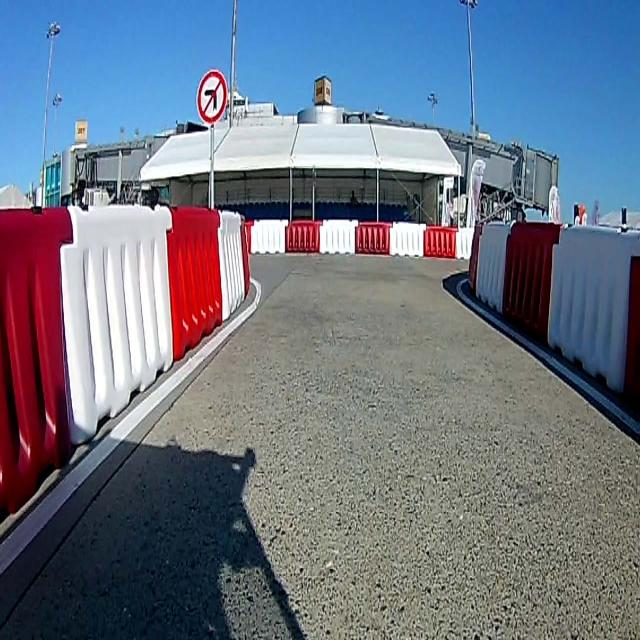soladonulmez: (197, 70, 227, 123)
